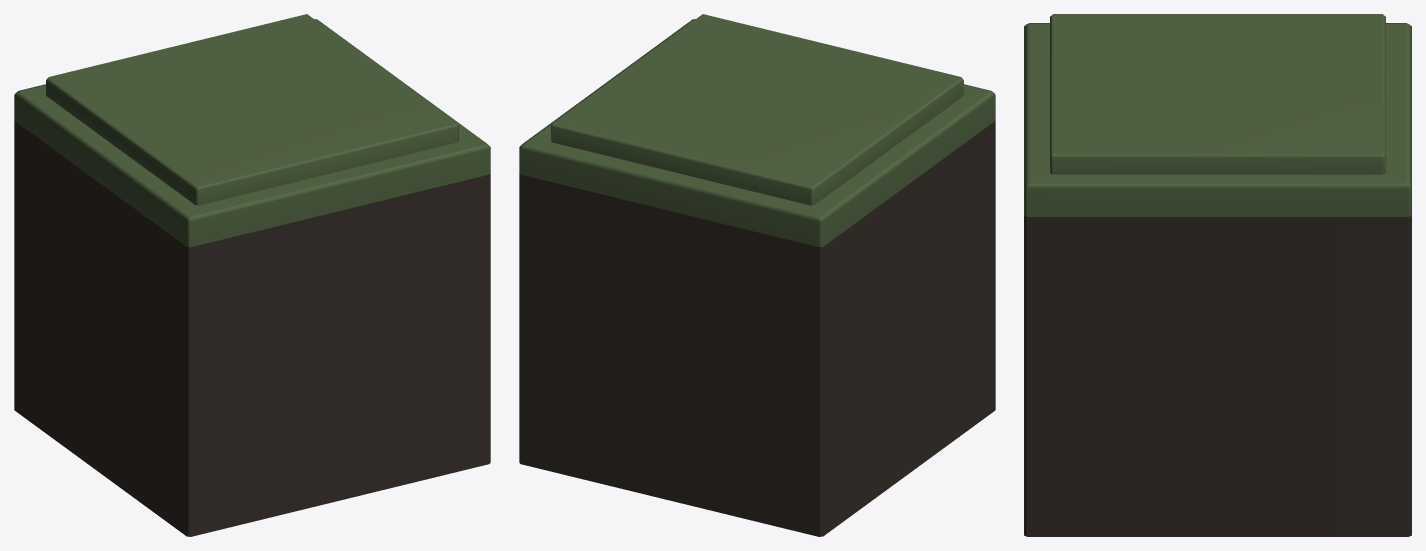
The model's file is Ground_Tile.fbx.
The picture shows the model from 3 angles, left to right: view 1: azimuth 30°, elevation 25°; view 2: azimuth 150°, elevation 25°; view 3: azimuth 270°, elevation 25°; orthographic projection. The views are drawn at different scales.
Visible parts, largest first — view 1: Ground_Tile; view 2: Ground_Tile; view 3: Ground_Tile.
Part boxes in pixels (left/top/right/bottom): Ground_Tile: left=14, top=14, right=490, bottom=536; Ground_Tile: left=519, top=14, right=995, bottom=536; Ground_Tile: left=1024, top=14, right=1411, bottom=536.
Size of the model in its own units: 1 by 1.06 by 1.
